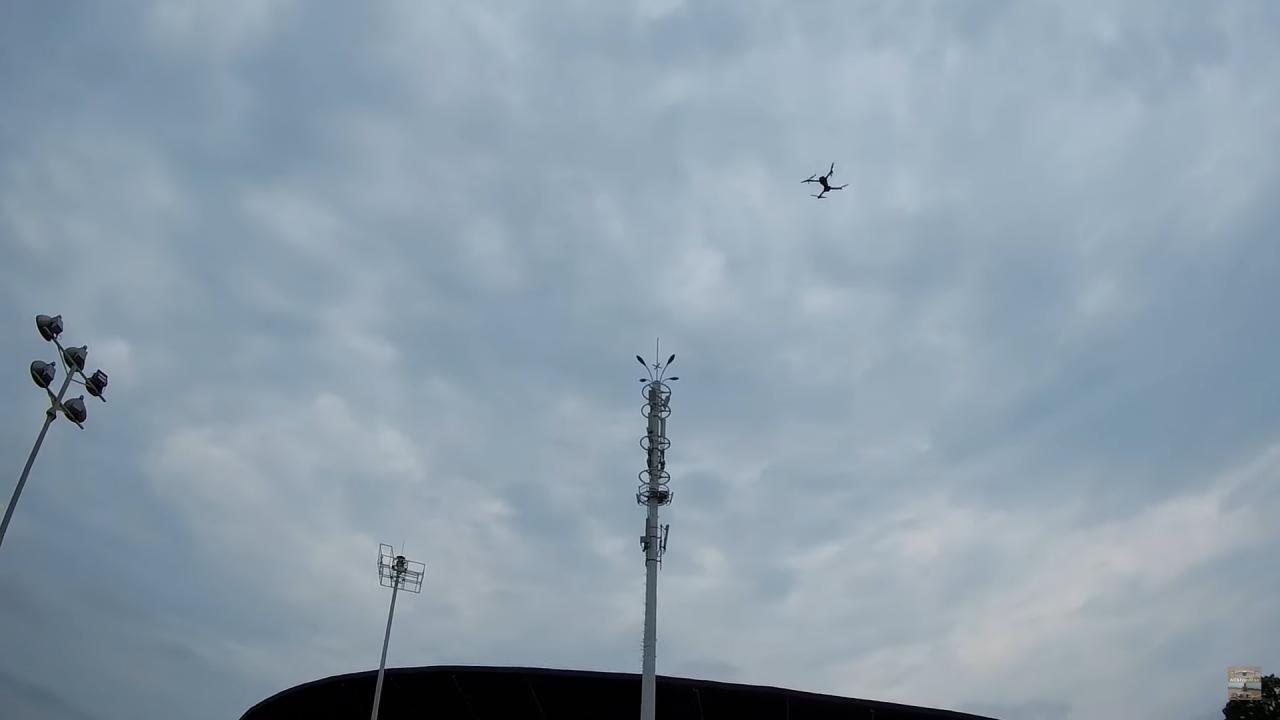Drone: (794, 154, 858, 208)
